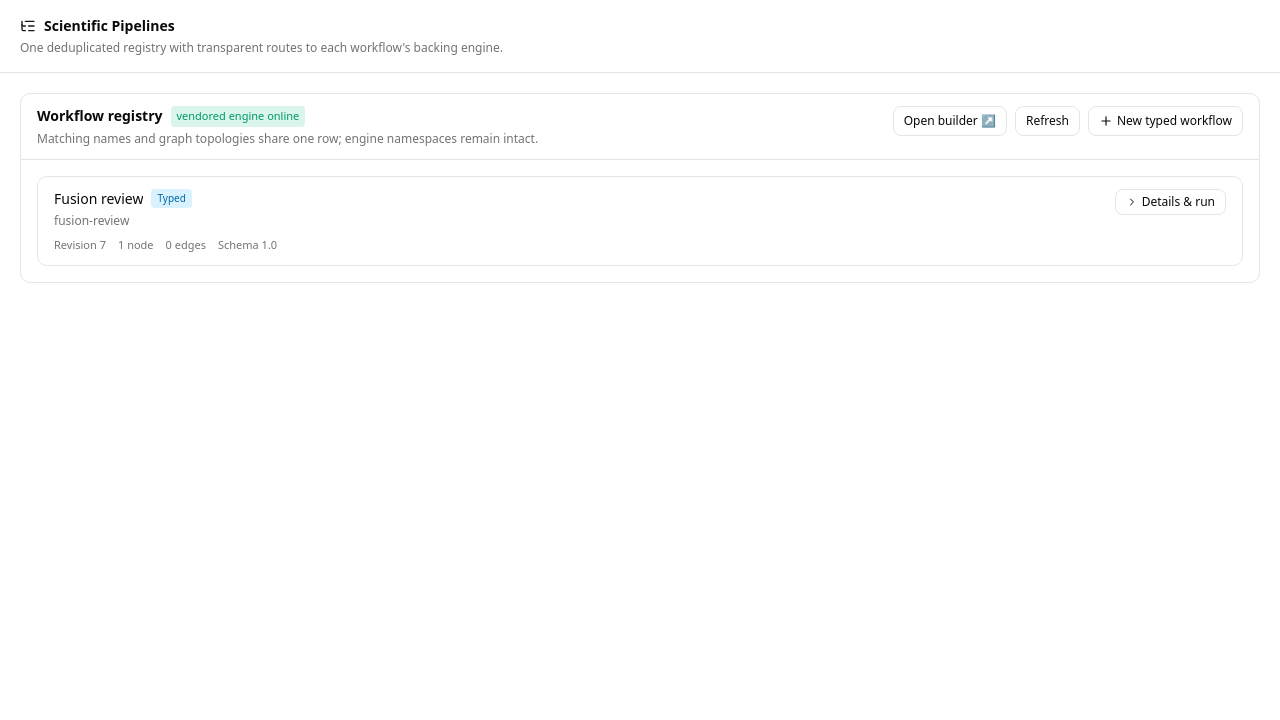
Test: DagWorkflowsPanel › runs the selected saved revision once with session, bounded goal, and revision safeguards
The width and height of the screenshot is (1280, 720).
Click the button with aria-label "Open Fusion review details".
click(1170, 202)  # box [1115,188,1226,214]
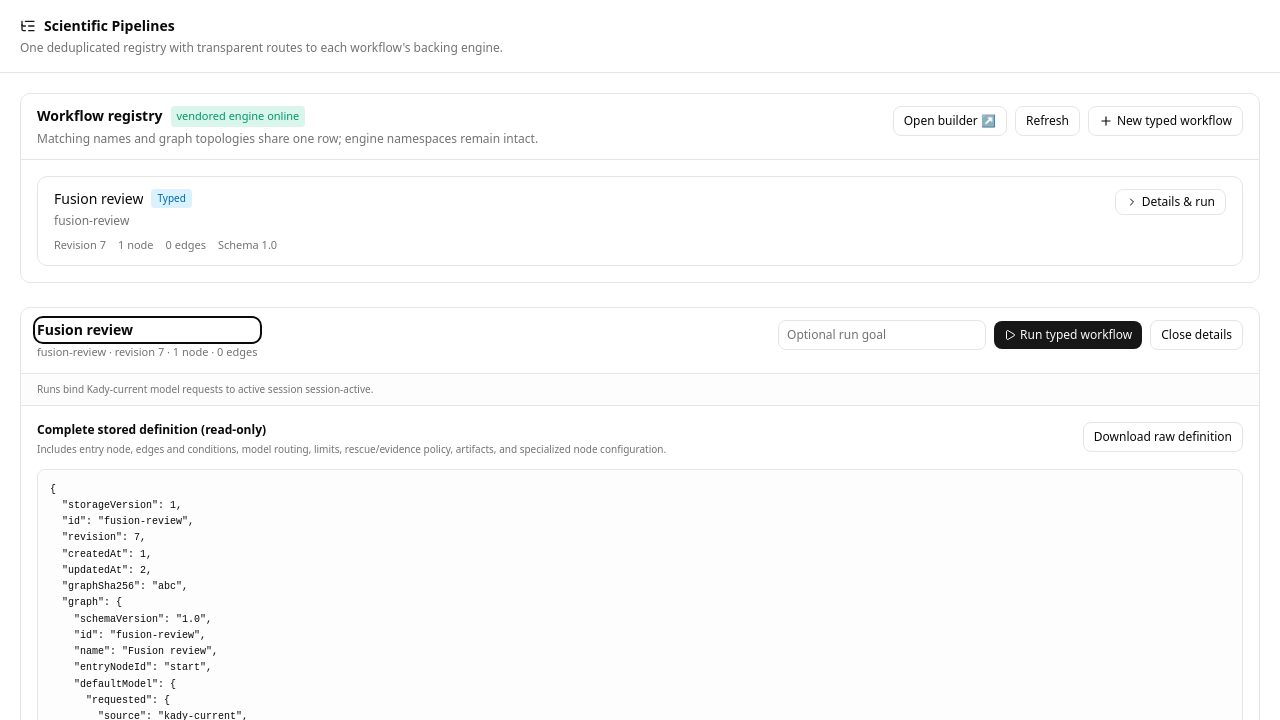
Type "  Verify the experiment  " into the field named "Typed workflow run goal".
click(882, 335); type("  Verify the experiment  ")  # box [778,320,986,350]
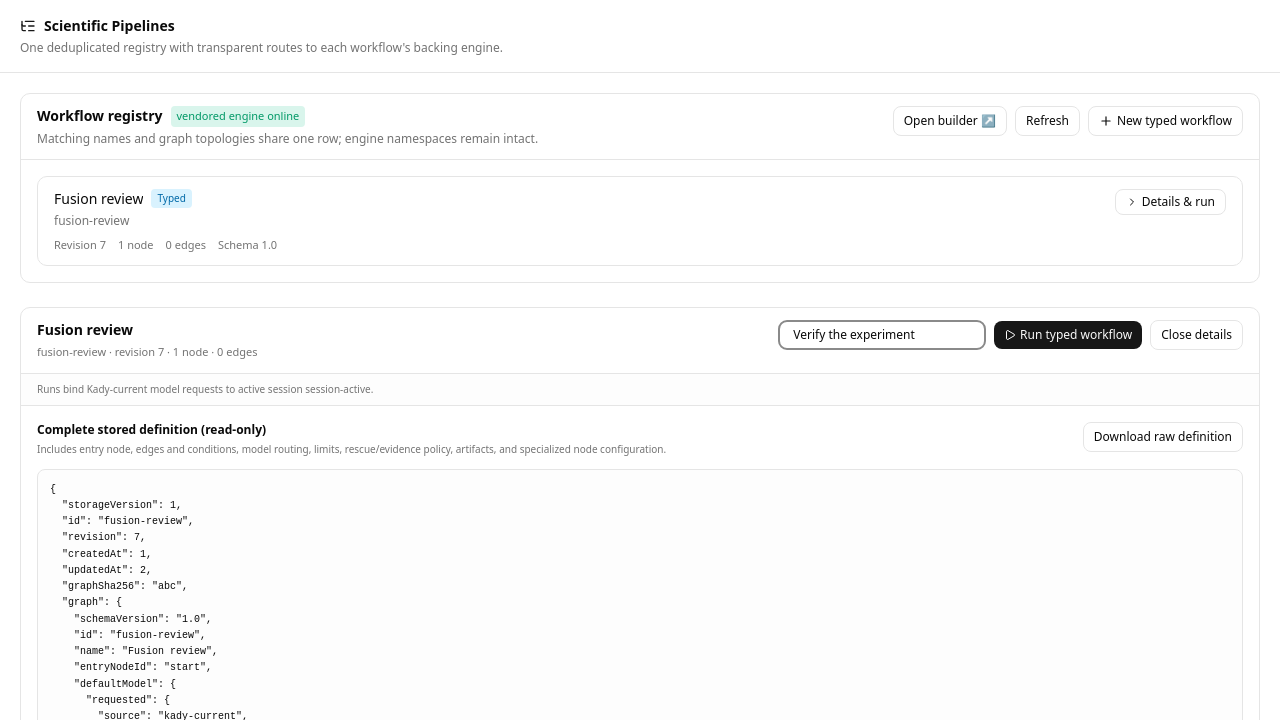
Click the button "Run typed workflow".
click(1068, 335)  # box [994,321,1142,349]
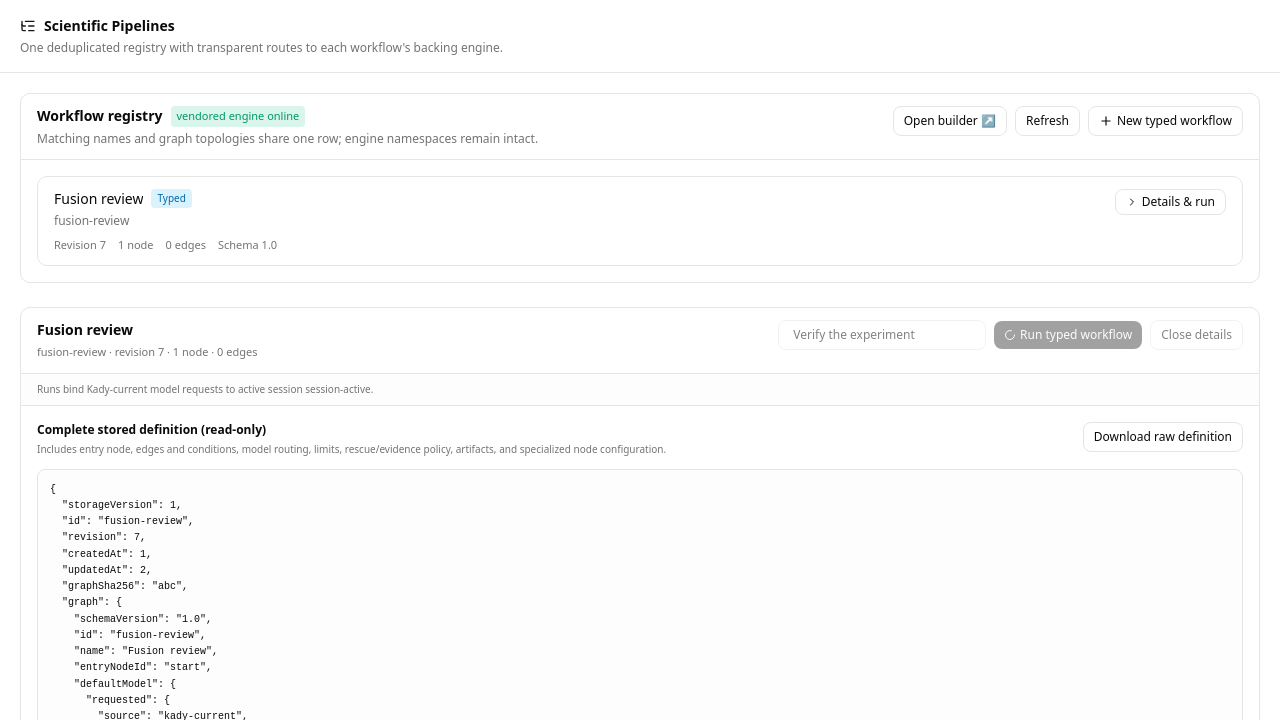
Check: the button "Run typed workflow" is disabled
Click the button "Run typed workflow".
click(1068, 335)  # box [994,321,1142,349]
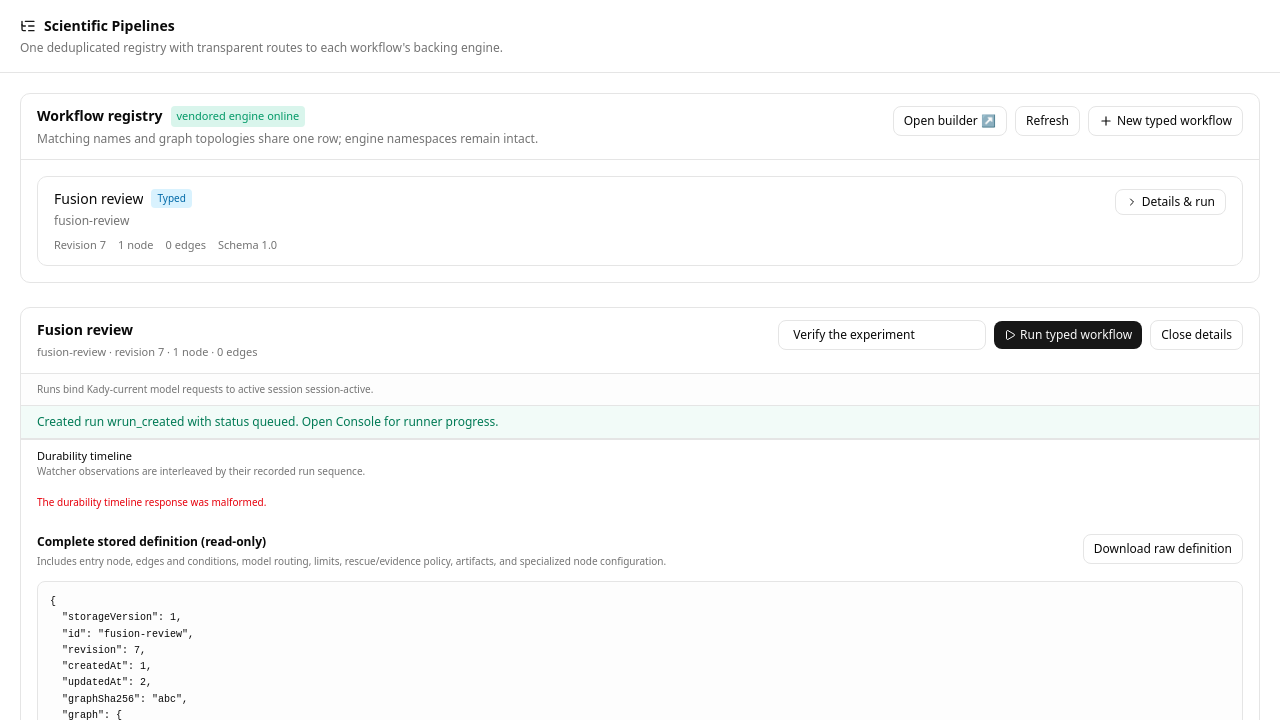
Check: the message "Created run wrun_created with status queued. Open Console for runner progress." is shown, box [21,406,1259,438]
